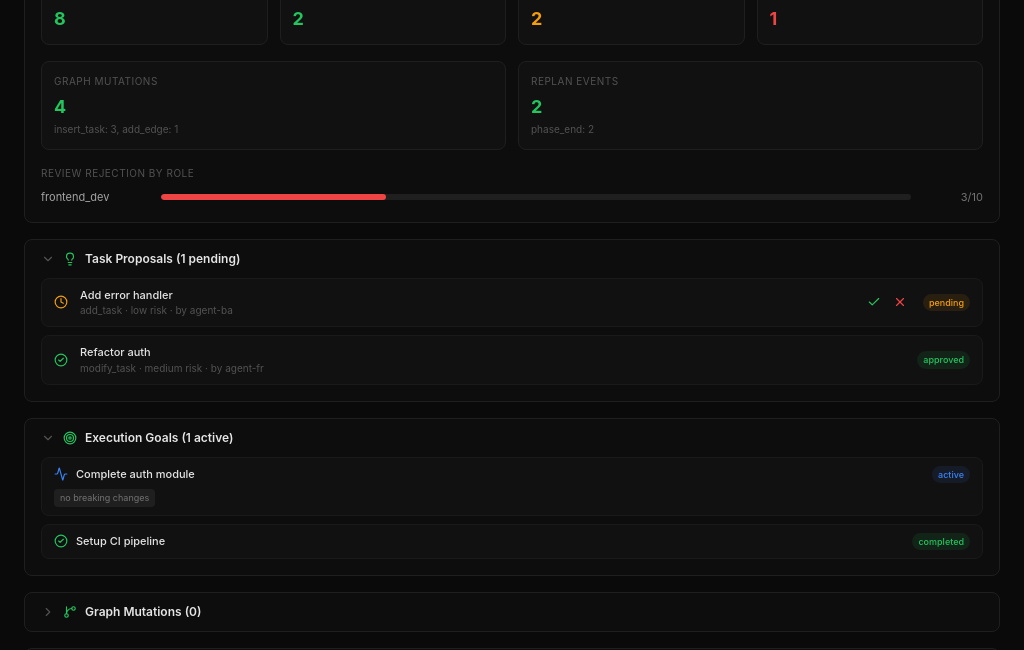
it: AgenticPanel › shows empty state for graph mutations
(page scrolled)
What coordinates should you click on to do the following:
click the button "Graph Mutations (0)"
I would click on:
 (143, 612)
Its box is [25,593,999,631].
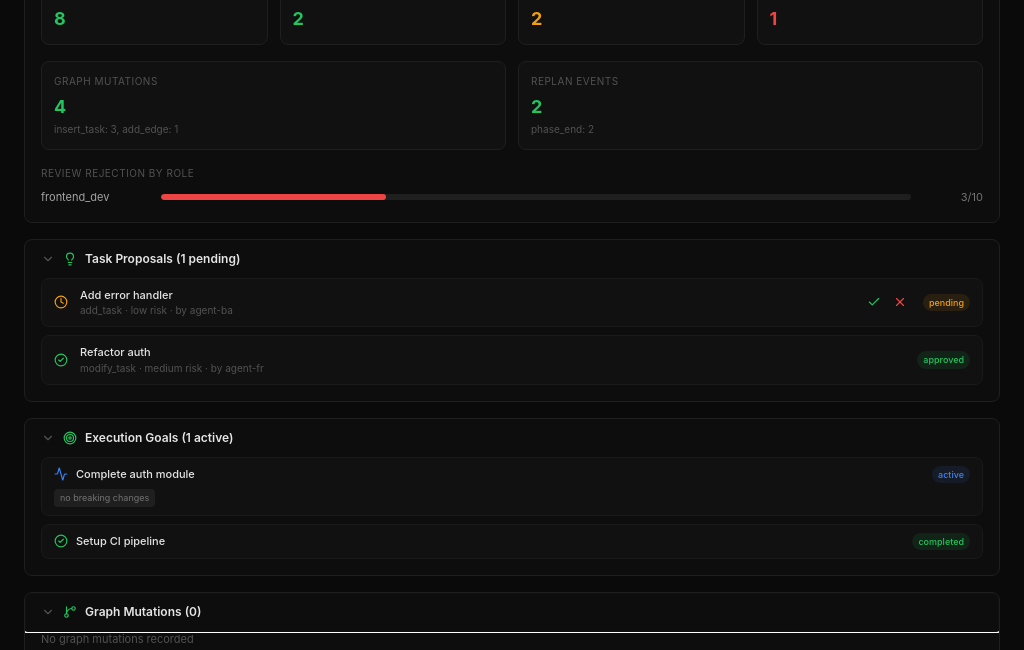
Now the text "No graph mutations recorded" is shown, box [41,632,194,646]
